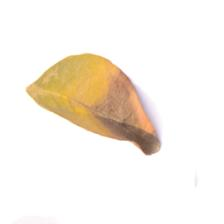black spot: (83, 61, 174, 151)
